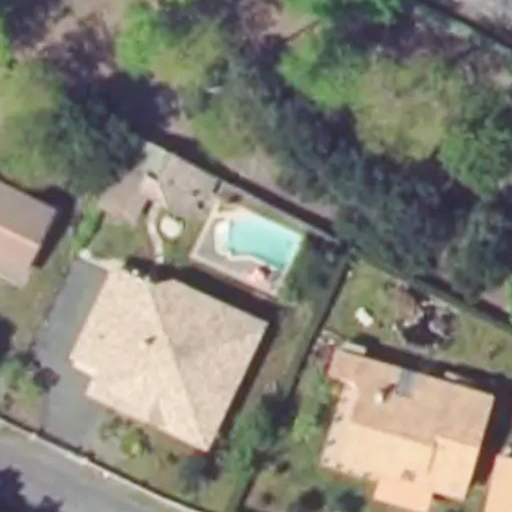pool: (213, 204, 307, 295)
